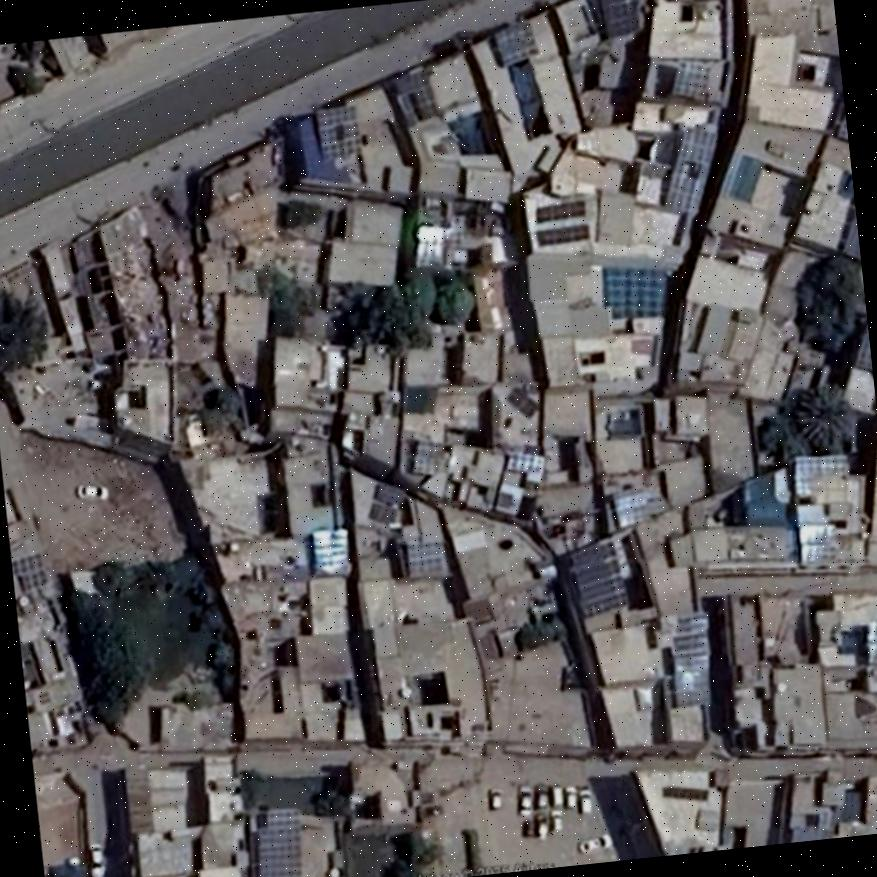Solarpanel: (661, 125, 718, 214), (571, 541, 626, 617), (255, 806, 302, 877), (316, 104, 363, 155), (794, 454, 848, 496), (493, 18, 540, 62), (311, 527, 346, 575), (613, 489, 650, 530), (10, 554, 46, 592), (602, 0, 639, 36), (407, 542, 443, 578), (673, 60, 708, 96), (536, 221, 590, 244), (410, 440, 445, 474), (536, 199, 584, 220), (867, 622, 877, 661)
